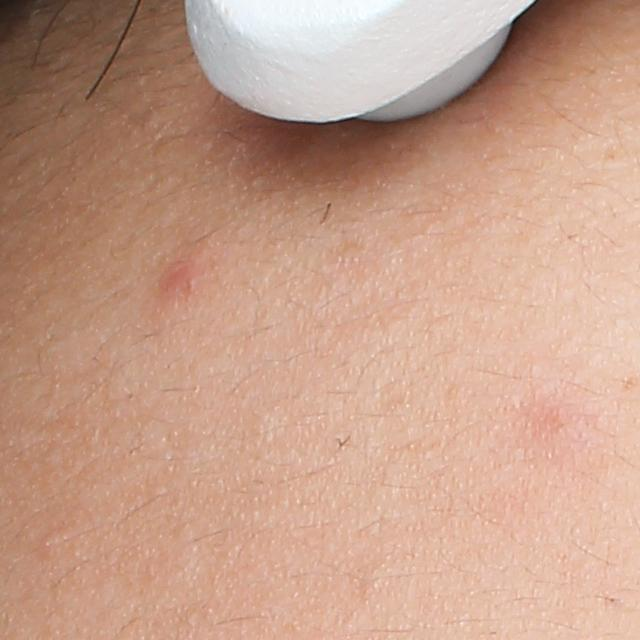comedo: (39, 537, 54, 554)
papule: (157, 249, 214, 302)
